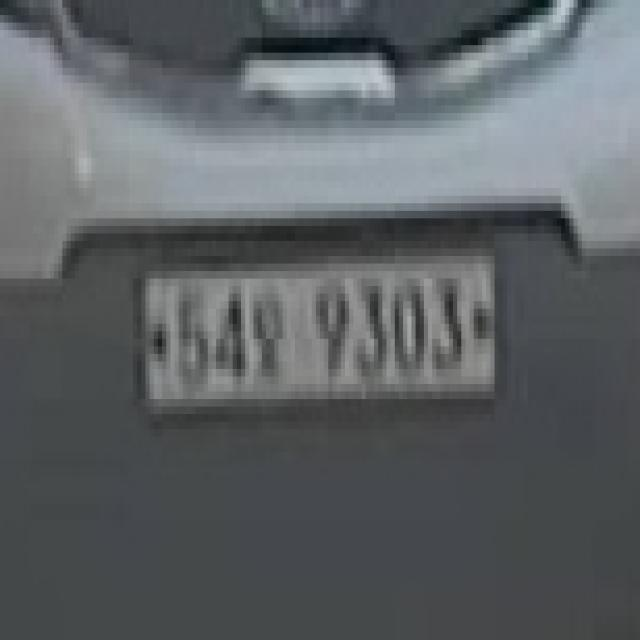0: (391, 278, 428, 392)
3: (432, 264, 470, 384), (353, 279, 391, 384)
4: (216, 286, 245, 384)
5: (174, 278, 212, 392)
9: (312, 279, 349, 384)
license_plate: (137, 256, 511, 429)
o: (245, 286, 295, 392)
